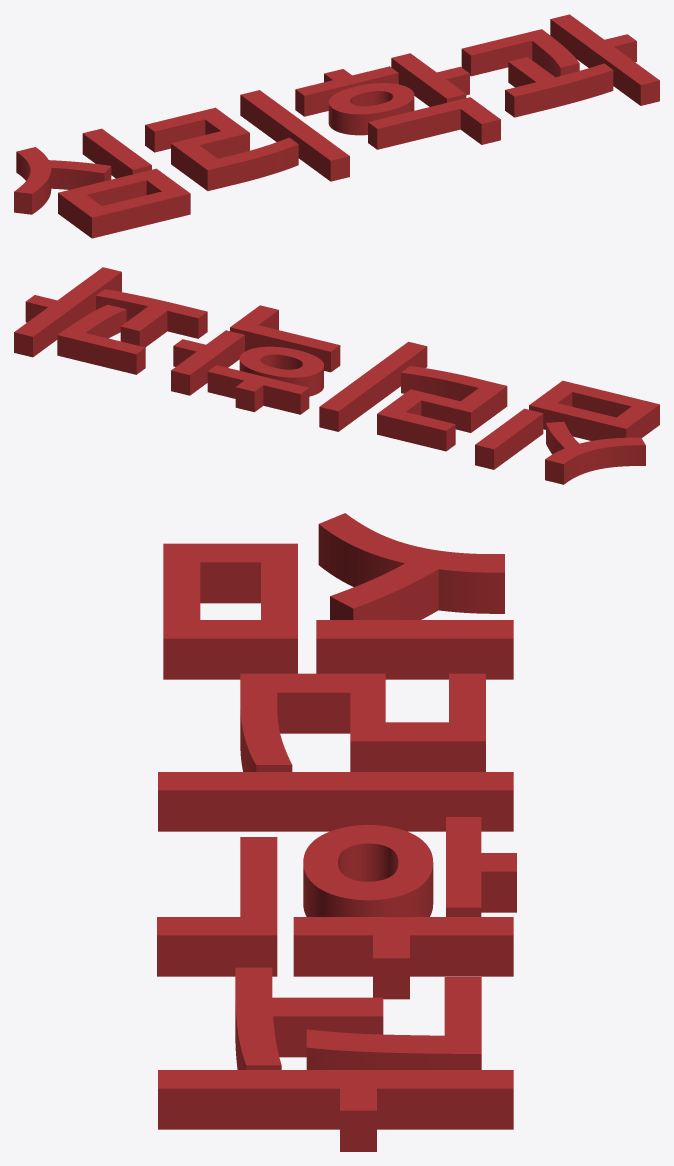
The model's file is false3.fbx.
The picture shows the model from 3 angles, top to bottom: view 1: azimuth 30°, elevation 25°; view 2: azimuth 150°, elevation 25°; view 3: azimuth 270°, elevation 25°; orthographic projection. The views are drawn at different scales.
Parts seen in each view (by area): view 1: Text; view 2: Text; view 3: Text.
Boxes of the visible parts, bbox=[...] form: Text: bbox=[14, 14, 659, 238]; Text: bbox=[14, 267, 659, 484]; Text: bbox=[157, 513, 516, 1151].
Bounding box in the file's own units: 303 × 9.74 × 77.11.
